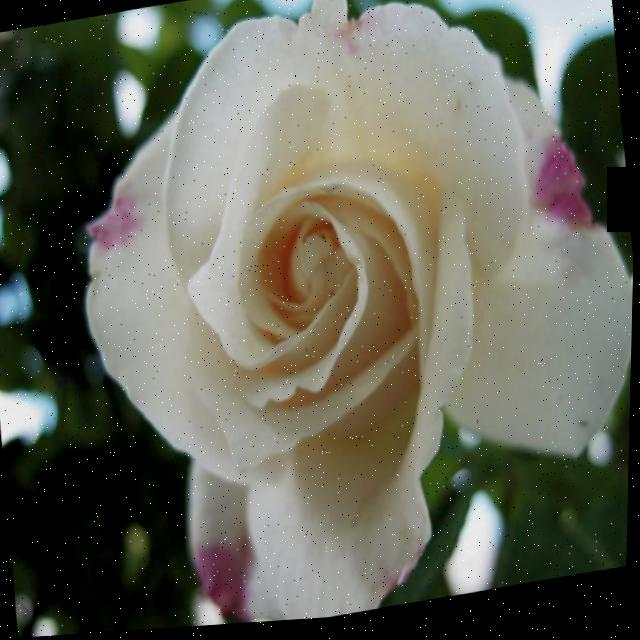rose: (57, 0, 640, 636)
